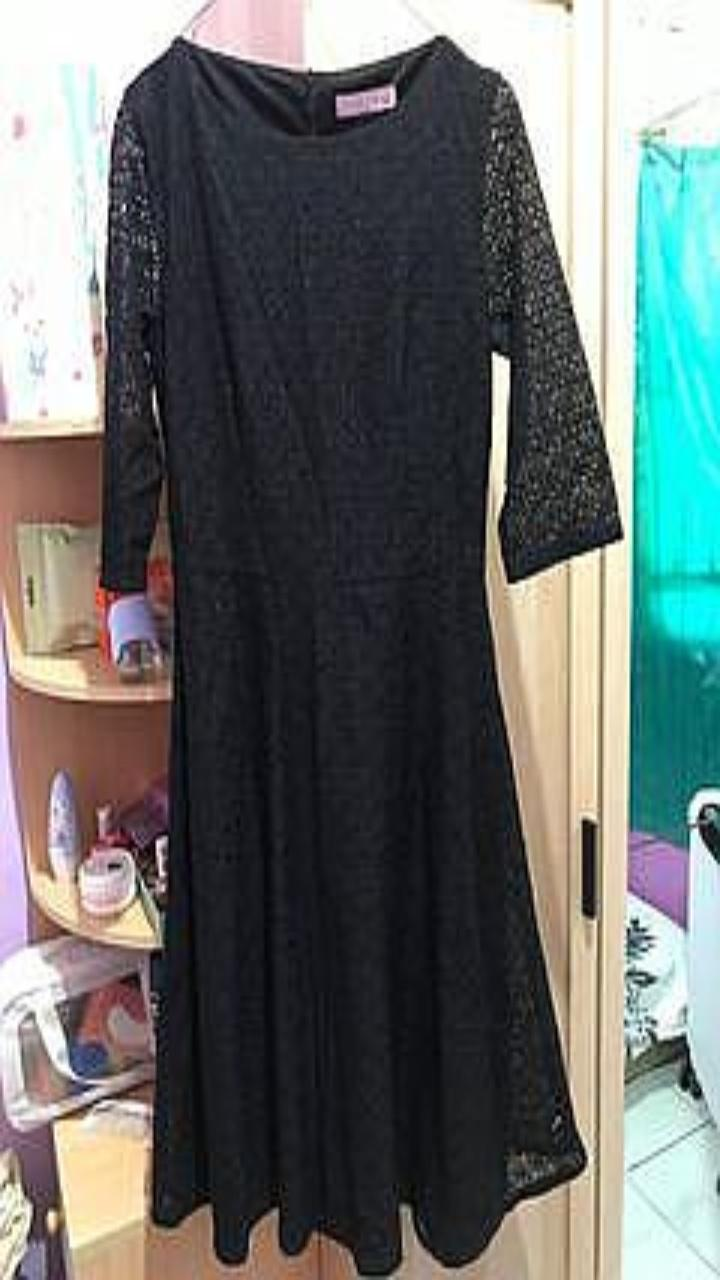Dresses: (101, 35, 621, 1274)
